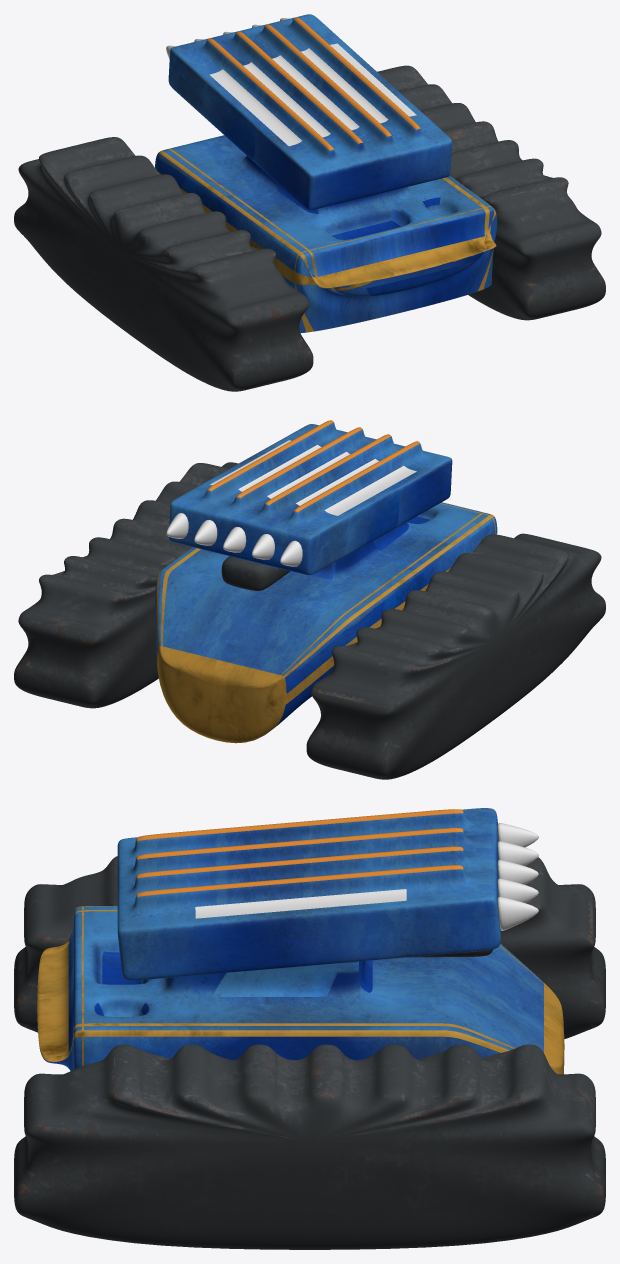
Rendered from Rocket.fbx.
The picture shows the model from 3 angles, top to bottom: view 1: azimuth 30°, elevation 25°; view 2: azimuth 150°, elevation 25°; view 3: azimuth 270°, elevation 25°; orthographic projection. The views are drawn at different scales.
Visible parts, largest first — view 1: Plane.004; view 2: Plane.004; view 3: Plane.004.
Part boxes in pixels (x1=…): Plane.004: x1=14, y1=14, x2=605, y2=391; Plane.004: x1=14, y1=420, x2=605, y2=779; Plane.004: x1=14, y1=808, x2=605, y2=1249.
Size of the model in its own units: 610 by 347 by 620.
